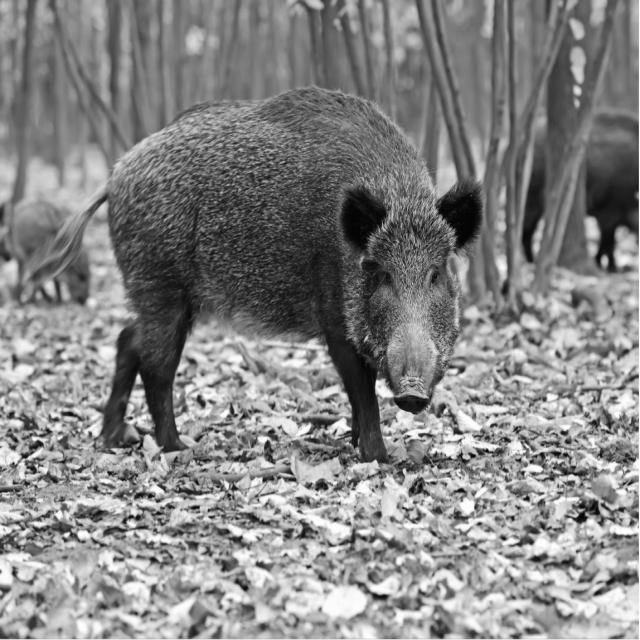boar: (27, 87, 482, 461)
